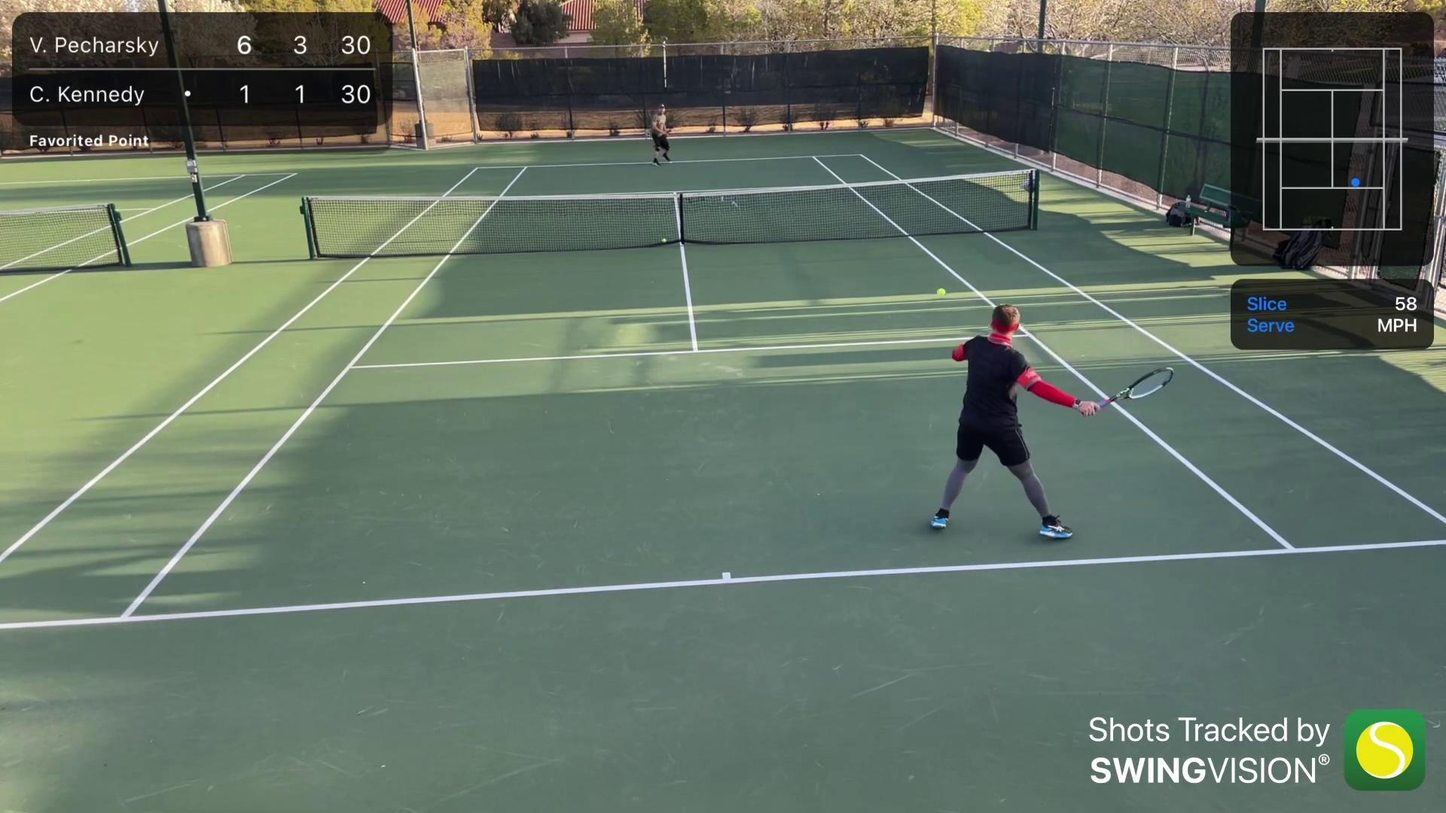ball: (933, 288, 947, 298), (661, 237, 668, 244)
